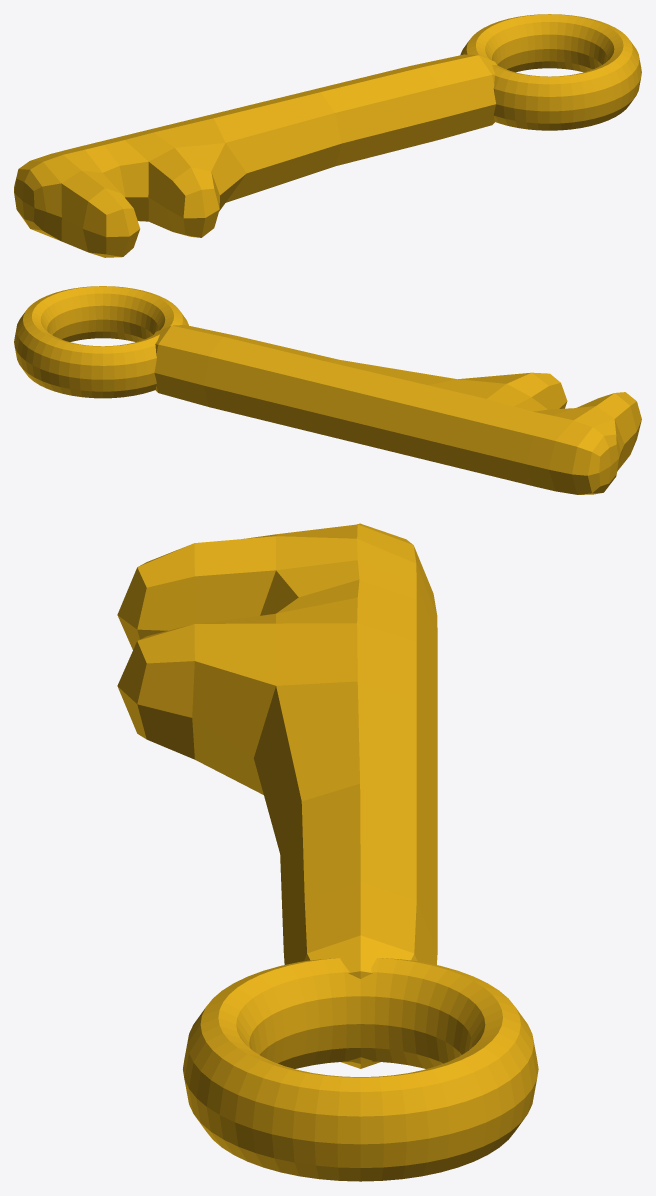
The model's file is Key.fbx.
3 views of the same model, one above another, from view 1: azimuth 30°, elevation 25°; view 2: azimuth 150°, elevation 25°; view 3: azimuth 270°, elevation 25° (orthographic). The views are drawn at different scales.
Parts seen in each view (by area): view 1: Cube, Torus; view 2: Cube, Torus; view 3: Cube, Torus.
Boxes of the visible parts, left/top/right/bottom form: Cube: left=14, top=54, right=496, bottom=257; Torus: left=460, top=14, right=641, bottom=130; Cube: left=154, top=325, right=641, bottom=494; Torus: left=14, top=286, right=188, bottom=398; Cube: left=117, top=523, right=437, bottom=1068; Torus: left=183, top=958, right=538, bottom=1181.
Bounding box in the file's own units: 1608 × 190 × 502.
